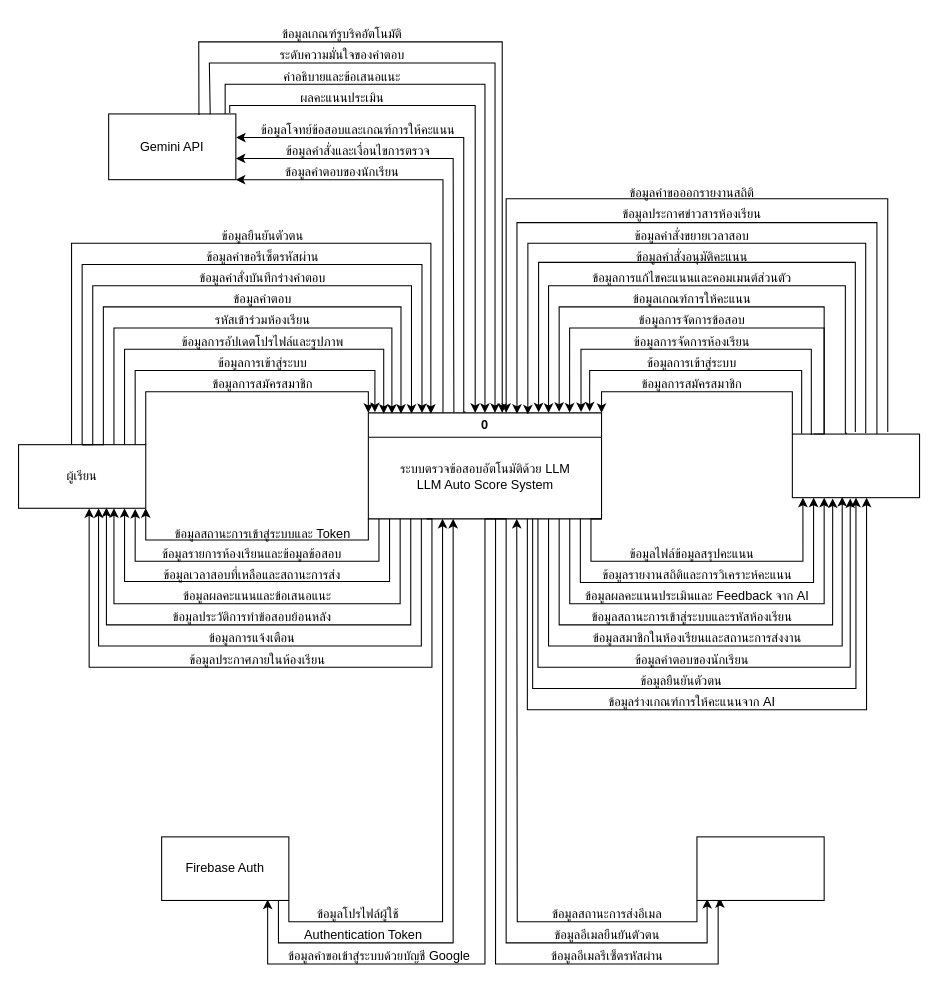
This 938x991 diagram has some shape labels left out. The shapes that lost their labels are listed below. From the top down, each one's centre as x and y in pixels, then its label:
At point (855, 465): "ผู้สอน".
At point (760, 868): "SMTP".
